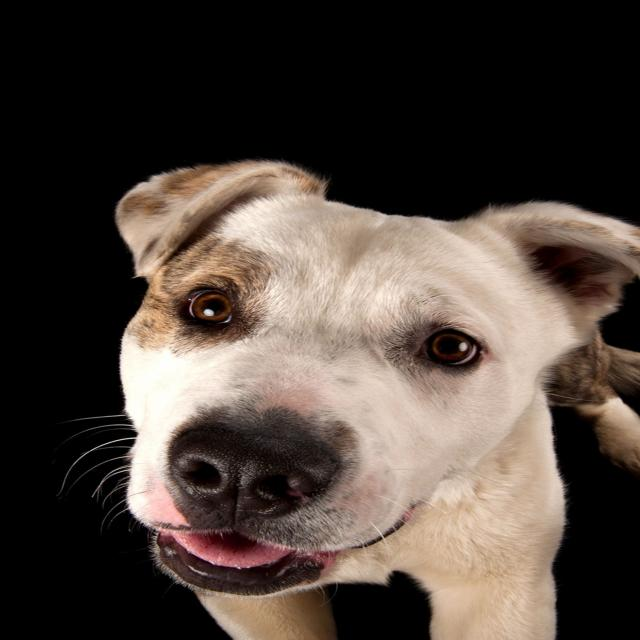dog: (81, 142, 640, 638)
